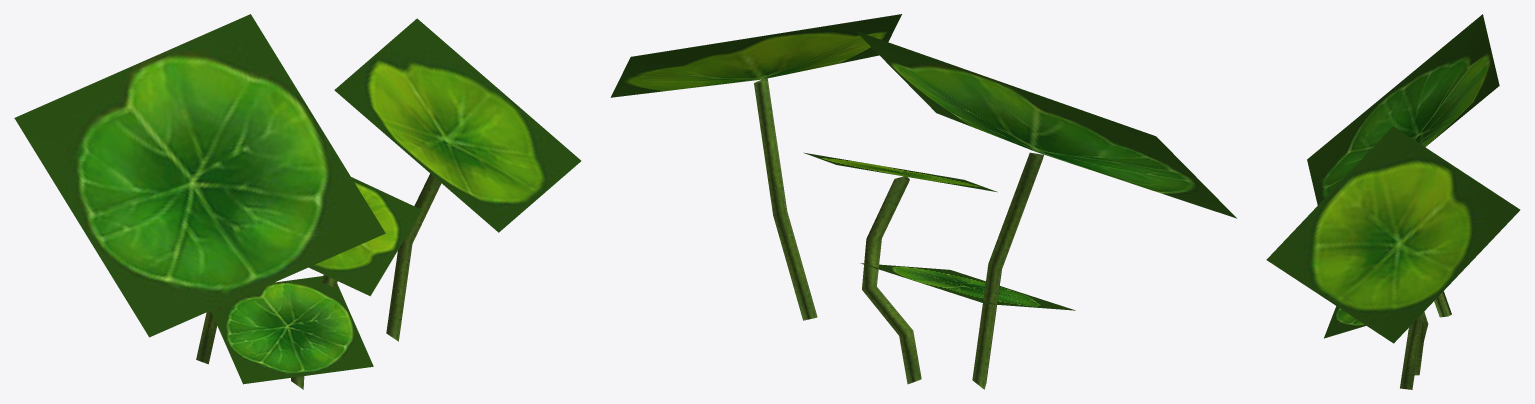
File: Stage_CaoYuan_HeHua02.FBX
3 views of the same model, side by side, from view 1: azimuth 30°, elevation 25°; view 2: azimuth 150°, elevation 25°; view 3: azimuth 270°, elevation 25° (orthographic). The views are drawn at different scales.
Visible parts, largest first — view 1: Stage_CaoYuan_HeHua02; view 2: Stage_CaoYuan_HeHua02; view 3: Stage_CaoYuan_HeHua02.
Boxes of the visible parts, bbox=[...] form: Stage_CaoYuan_HeHua02: bbox=[14, 14, 581, 389]; Stage_CaoYuan_HeHua02: bbox=[610, 14, 1236, 389]; Stage_CaoYuan_HeHua02: bbox=[1266, 14, 1520, 389].
Bounding box in the file's own units: 138 × 85.96 × 68.42.
